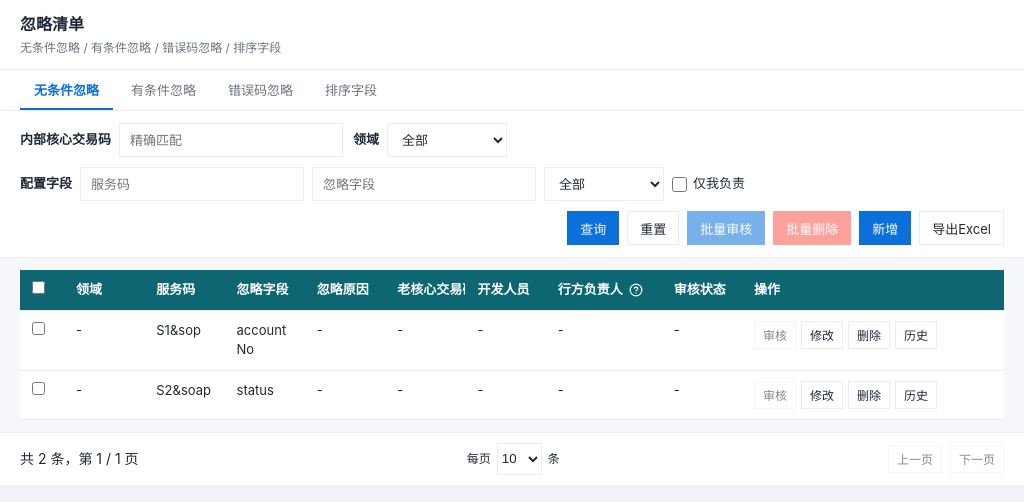
it: ReplayConfigPage（忽略清单） › exports the reviewed configs through the toolbar button
Click the button with test id "export-excel": (962, 228) x1=919 y1=211 x2=1004 y2=245
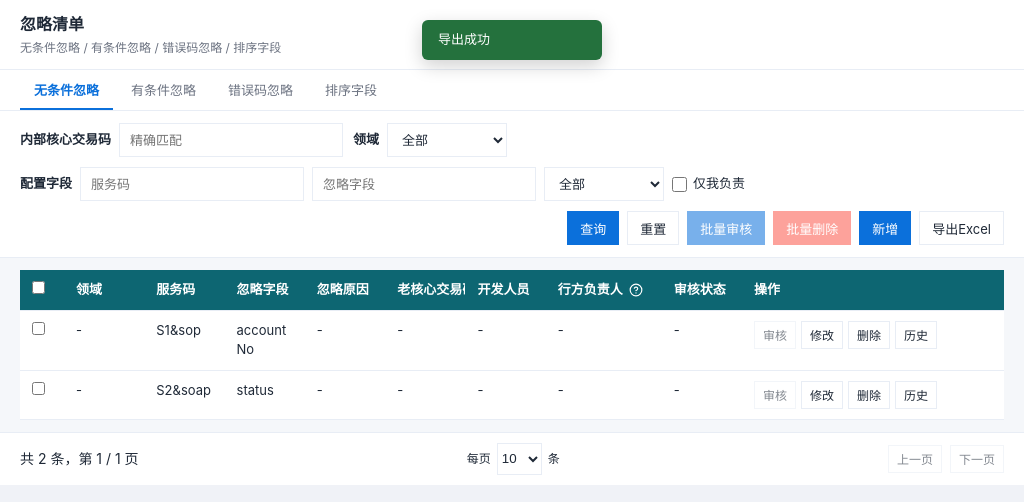
Result: the message with test id "toast" reads "导出成功" at x1=438 y1=31 x2=490 y2=47
